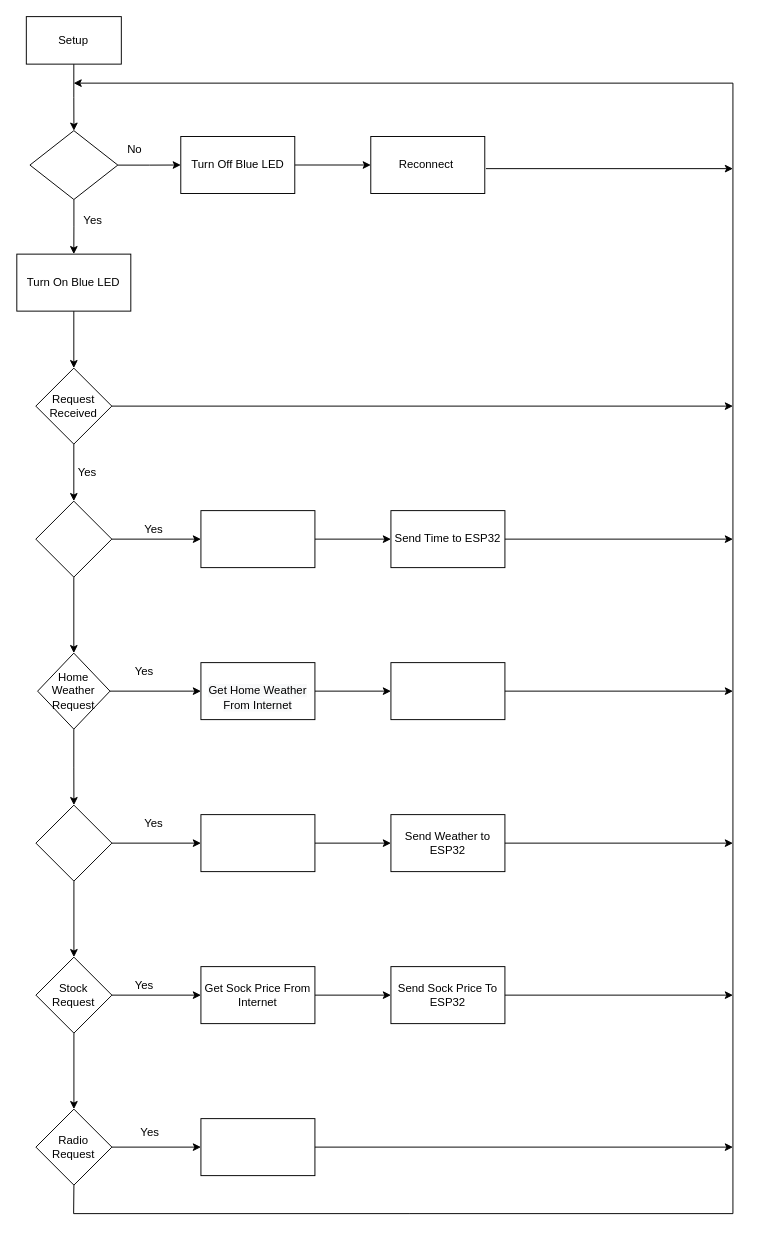
The diagram is 757 pixels wide and 1238 high, and some of its shapes have lost their labels. Each missing label, with the box of its shape:
Get Time From Internet: (200, 510, 315, 568)
Get Weather From Internet: (200, 814, 315, 872)
Send Home Weather to ESP32: (390, 662, 505, 720)
Start Internet Radio Stream: (200, 1118, 315, 1176)
Time Request: (35, 500, 112, 577)
Weather Request: (35, 804, 112, 881)
WiFi Connected: (29, 130, 118, 200)
